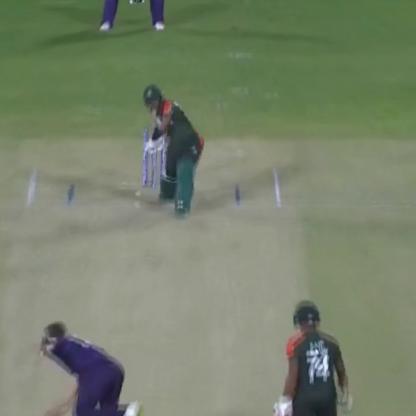ball: (132, 202, 144, 212), (134, 190, 142, 200)
bat: (5, 166, 303, 416), (144, 129, 166, 159)
